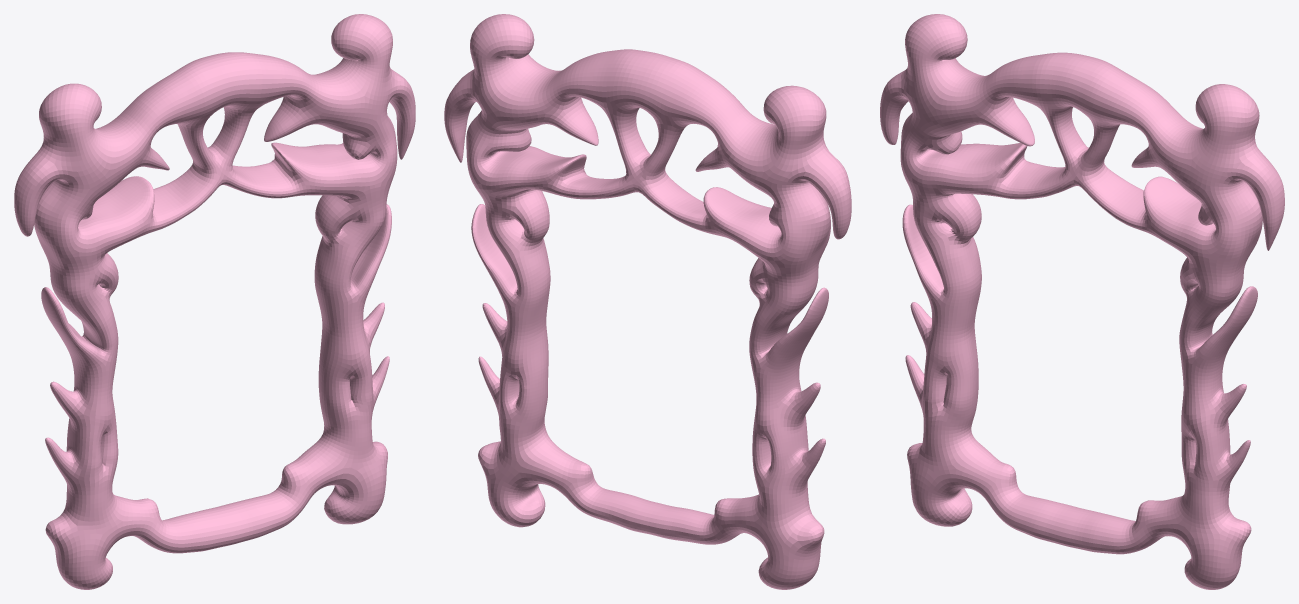
File: pinkframe.fbx
3 views of the same model, side by side, from view 1: azimuth 30°, elevation 25°; view 2: azimuth 150°, elevation 25°; view 3: azimuth 330°, elevation 25° (orthographic).
Parts seen in each view (by area): view 1: framelow:ZBrush_defualt_group; view 2: framelow:ZBrush_defualt_group; view 3: framelow:ZBrush_defualt_group.
Part boxes in pixels (x1=…): framelow:ZBrush_defualt_group: x1=14, y1=14, x2=415, y2=589; framelow:ZBrush_defualt_group: x1=444, y1=14, x2=851, y2=589; framelow:ZBrush_defualt_group: x1=880, y1=14, x2=1284, y2=589.
Bounding box in the file's own units: 219 × 263 × 40.04.
